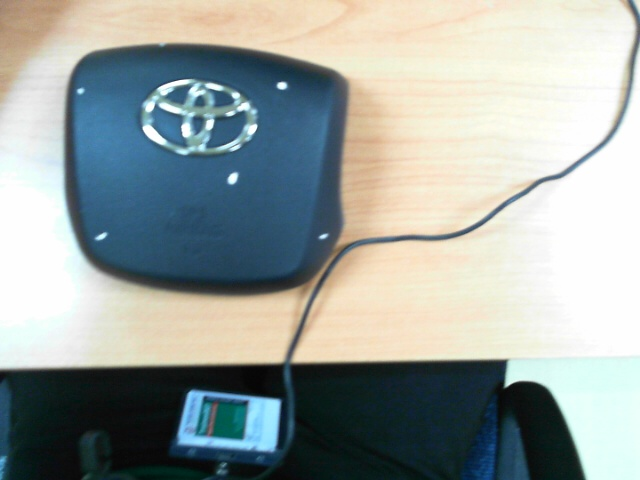Airbag: (227, 172, 238, 185), (95, 232, 108, 241), (276, 82, 287, 90), (318, 233, 330, 240), (76, 88, 85, 95), (160, 42, 166, 47)
